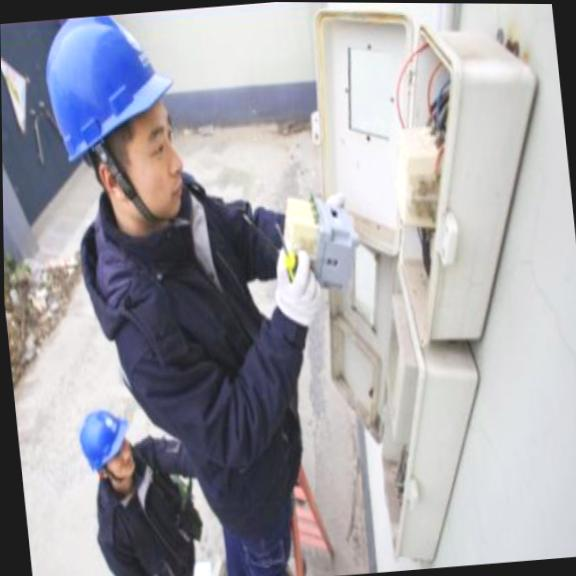no_safety_vest: (92, 180, 326, 501), (89, 461, 205, 576)
